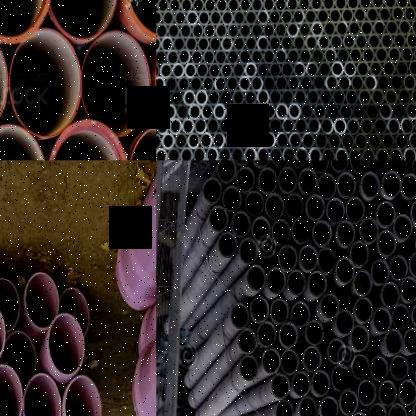pipe: (8, 28, 82, 138), (81, 30, 151, 137), (47, 119, 129, 160), (50, 0, 118, 42), (0, 0, 53, 45), (49, 313, 85, 375), (24, 272, 59, 330), (23, 372, 62, 416), (0, 125, 47, 160), (65, 374, 101, 416), (59, 288, 90, 336), (4, 331, 37, 375), (0, 365, 22, 415), (0, 276, 20, 329), (208, 205, 229, 233), (230, 302, 250, 330), (238, 237, 258, 265), (292, 217, 312, 245), (251, 216, 271, 244), (277, 167, 298, 193), (270, 298, 290, 325), (320, 293, 340, 320), (266, 267, 286, 294), (218, 231, 238, 258), (271, 219, 291, 246), (222, 186, 242, 213), (358, 378, 377, 406), (292, 370, 311, 398), (238, 327, 257, 355), (250, 295, 269, 323), (278, 244, 297, 272), (350, 240, 369, 268), (203, 176, 222, 204), (361, 171, 380, 199), (311, 370, 331, 396), (331, 365, 351, 391), (390, 355, 410, 381), (239, 355, 259, 381), (327, 338, 347, 364), (350, 325, 370, 351), (312, 220, 332, 246), (359, 217, 379, 243), (231, 211, 251, 237), (326, 198, 346, 224), (345, 197, 365, 223), (285, 193, 305, 219), (244, 191, 264, 217), (298, 168, 318, 194), (339, 389, 358, 416), (271, 372, 290, 399), (303, 345, 322, 372), (299, 244, 318, 271), (377, 230, 396, 257), (376, 201, 395, 228), (306, 194, 325, 221), (265, 193, 284, 220), (317, 173, 336, 200), (382, 171, 401, 198), (236, 166, 255, 193), (390, 254, 408, 282), (280, 349, 300, 374), (257, 322, 277, 347), (305, 320, 325, 345), (291, 302, 311, 327), (287, 270, 307, 295), (246, 265, 266, 290), (351, 354, 370, 380), (262, 348, 281, 374), (384, 329, 403, 355), (279, 322, 298, 348), (354, 297, 373, 323), (308, 271, 327, 297), (336, 257, 355, 283), (257, 244, 276, 270), (336, 221, 355, 247), (394, 214, 413, 240), (337, 172, 356, 198), (336, 309, 354, 336), (354, 269, 372, 296), (371, 259, 389, 286), (217, 160, 237, 184), (370, 356, 389, 381), (392, 304, 411, 329), (381, 283, 400, 308), (317, 248, 336, 273), (379, 380, 397, 406), (373, 307, 391, 333), (399, 379, 416, 405), (298, 395, 317, 416), (319, 395, 338, 416), (401, 173, 416, 199), (401, 277, 416, 302), (275, 399, 294, 416), (0, 300, 5, 364), (388, 160, 407, 176), (369, 160, 388, 176), (404, 328, 416, 353), (367, 132, 382, 151), (327, 132, 342, 151), (344, 88, 359, 107), (314, 131, 328, 151), (301, 131, 315, 151), (346, 117, 360, 137), (360, 117, 374, 137), (354, 132, 368, 151), (340, 132, 354, 151), (381, 132, 395, 151), (394, 132, 408, 151), (288, 131, 302, 150), (333, 117, 347, 136), (374, 117, 388, 136), (320, 117, 334, 136), (400, 117, 414, 136), (312, 102, 326, 121), (378, 102, 392, 121), (392, 102, 406, 121), (332, 88, 346, 107), (358, 88, 372, 107), (371, 88, 385, 107), (376, 73, 390, 92), (382, 59, 396, 78), (400, 45, 414, 64), (368, 402, 387, 416), (387, 403, 407, 416), (156, 118, 170, 136), (256, 117, 270, 135), (294, 117, 308, 135), (326, 103, 340, 121), (352, 103, 366, 121), (384, 88, 398, 106), (312, 74, 326, 92), (350, 74, 364, 92), (369, 60, 383, 78), (350, 160, 368, 174), (162, 132, 175, 151), (212, 131, 225, 150), (225, 131, 238, 150), (250, 131, 263, 150), (263, 131, 276, 150), (387, 117, 400, 136), (194, 117, 207, 136), (206, 117, 219, 136), (366, 102, 379, 121), (319, 88, 332, 107), (175, 390, 188, 409), (309, 160, 329, 172), (188, 103, 202, 120), (200, 103, 214, 120), (300, 103, 314, 120), (280, 62, 294, 79), (336, 47, 350, 64), (280, 34, 294, 51), (304, 34, 318, 51), (354, 33, 368, 50), (398, 19, 412, 36), (328, 7, 342, 24), (378, 6, 392, 23), (174, 132, 187, 150), (169, 118, 182, 136), (244, 117, 257, 135), (269, 117, 282, 135), (176, 103, 189, 121), (398, 88, 411, 106), (364, 74, 377, 92), (403, 73, 416, 91), (331, 60, 344, 78), (356, 60, 369, 78), (380, 32, 393, 50), (200, 131, 212, 150), (238, 131, 250, 150), (276, 131, 288, 150), (182, 117, 194, 136), (308, 117, 320, 136), (219, 117, 231, 136), (307, 88, 319, 107), (390, 73, 402, 92), (330, 160, 349, 172), (256, 90, 270, 106), (268, 62, 282, 78), (286, 48, 300, 64), (256, 36, 270, 52), (342, 34, 356, 50), (262, 22, 276, 38), (366, 7, 380, 23), (263, 103, 276, 120), (269, 89, 282, 106), (294, 89, 307, 106), (338, 74, 351, 91), (208, 62, 221, 79), (318, 61, 331, 78), (349, 47, 362, 64), (362, 47, 375, 64), (375, 47, 388, 64), (317, 34, 330, 51), (368, 33, 381, 50), (188, 132, 200, 150), (232, 117, 244, 135), (282, 117, 294, 135), (340, 103, 352, 121), (300, 74, 312, 92), (326, 74, 338, 92), (160, 62, 172, 80), (172, 62, 184, 80), (344, 60, 356, 78), (394, 32, 406, 50), (215, 22, 227, 40), (239, 22, 251, 40), (320, 146, 335, 160), (360, 21, 374, 36), (195, 90, 208, 106), (219, 90, 232, 106), (244, 90, 257, 106), (165, 76, 178, 92), (226, 76, 239, 92), (275, 76, 288, 92), (311, 48, 324, 64), (324, 48, 337, 64), (167, 23, 180, 39), (373, 20, 386, 36), (353, 7, 366, 23), (341, 7, 354, 23), (164, 104, 176, 121), (226, 103, 238, 120), (238, 103, 250, 120), (250, 103, 262, 120), (288, 103, 300, 120), (276, 103, 288, 120), (158, 90, 170, 107), (171, 90, 183, 107), (183, 90, 195, 107), (282, 89, 294, 106), (238, 75, 250, 92), (184, 62, 196, 79), (257, 62, 269, 79), (294, 61, 306, 78), (306, 61, 318, 78), (396, 60, 408, 77), (233, 35, 245, 52), (269, 34, 281, 51), (293, 34, 305, 51), (404, 6, 416, 23), (392, 5, 404, 22), (376, 146, 390, 160), (388, 146, 402, 160), (166, 146, 180, 160), (308, 146, 322, 160), (230, 146, 244, 160), (348, 21, 361, 36), (208, 90, 220, 106), (190, 76, 202, 92), (178, 76, 190, 92), (202, 76, 214, 92), (214, 76, 226, 92), (250, 76, 262, 92), (263, 76, 275, 92), (288, 75, 300, 91), (166, 50, 178, 66), (203, 50, 215, 66), (214, 50, 226, 66), (178, 50, 190, 66), (191, 49, 203, 65), (227, 49, 239, 65), (239, 49, 251, 65), (250, 49, 262, 65), (263, 48, 275, 64), (275, 48, 287, 64), (300, 48, 312, 64), (388, 47, 400, 63), (161, 36, 173, 52), (173, 36, 185, 52), (186, 36, 198, 52), (209, 36, 221, 52), (330, 34, 342, 50), (180, 23, 192, 39), (192, 23, 204, 39), (204, 23, 216, 39), (156, 22, 168, 38), (250, 23, 262, 39), (274, 22, 286, 38), (299, 22, 311, 38), (286, 22, 298, 38), (311, 22, 323, 38), (323, 21, 335, 37), (386, 20, 398, 36), (162, 10, 174, 26), (174, 10, 186, 26), (186, 10, 198, 26), (198, 10, 210, 26), (245, 10, 257, 26), (257, 10, 269, 26), (269, 9, 281, 25), (293, 8, 305, 24), (304, 8, 316, 24), (317, 8, 329, 24), (406, 101, 416, 120), (214, 103, 225, 120), (233, 62, 244, 79), (348, 147, 362, 160), (362, 147, 376, 160), (403, 146, 416, 160), (335, 147, 349, 160), (193, 146, 206, 160), (269, 146, 282, 160), (282, 146, 295, 160), (218, 146, 231, 160), (205, 146, 218, 160), (257, 146, 270, 160), (409, 252, 416, 278), (196, 63, 208, 78), (336, 21, 348, 36), (233, 90, 244, 106), (198, 36, 209, 52), (222, 36, 233, 52), (245, 36, 256, 52), (228, 23, 239, 39), (210, 10, 221, 26), (223, 10, 234, 26), (234, 10, 245, 26), (281, 9, 292, 25), (180, 146, 192, 160), (296, 146, 308, 160), (244, 146, 256, 160), (290, 160, 311, 168), (221, 63, 232, 78), (245, 63, 256, 78), (156, 49, 166, 65), (406, 32, 416, 48), (180, 0, 192, 13), (215, 0, 227, 13), (158, 0, 170, 13), (168, 0, 180, 13), (192, 0, 204, 13), (204, 0, 216, 13), (238, 0, 250, 13), (250, 0, 262, 13), (156, 75, 165, 92), (408, 131, 416, 150), (252, 160, 271, 168), (263, 0, 275, 12), (274, 0, 286, 12), (228, 0, 239, 13), (156, 103, 164, 120), (408, 59, 416, 76), (298, 0, 310, 11), (310, 0, 322, 11), (156, 147, 166, 160), (411, 199, 416, 225), (178, 407, 192, 416), (286, 0, 297, 11), (323, 0, 334, 11), (347, 0, 358, 11), (334, 0, 346, 10), (360, 0, 372, 10), (372, 0, 384, 10), (271, 160, 290, 166), (385, 0, 396, 10), (396, 0, 408, 9), (412, 302, 416, 328), (411, 87, 416, 106), (157, 133, 162, 151), (156, 36, 161, 52), (411, 18, 416, 34), (157, 10, 162, 26), (412, 160, 416, 180), (408, 0, 416, 9), (350, 412, 368, 416), (156, 62, 160, 79), (413, 116, 416, 135), (413, 397, 416, 416), (414, 364, 416, 391), (413, 45, 416, 62)
